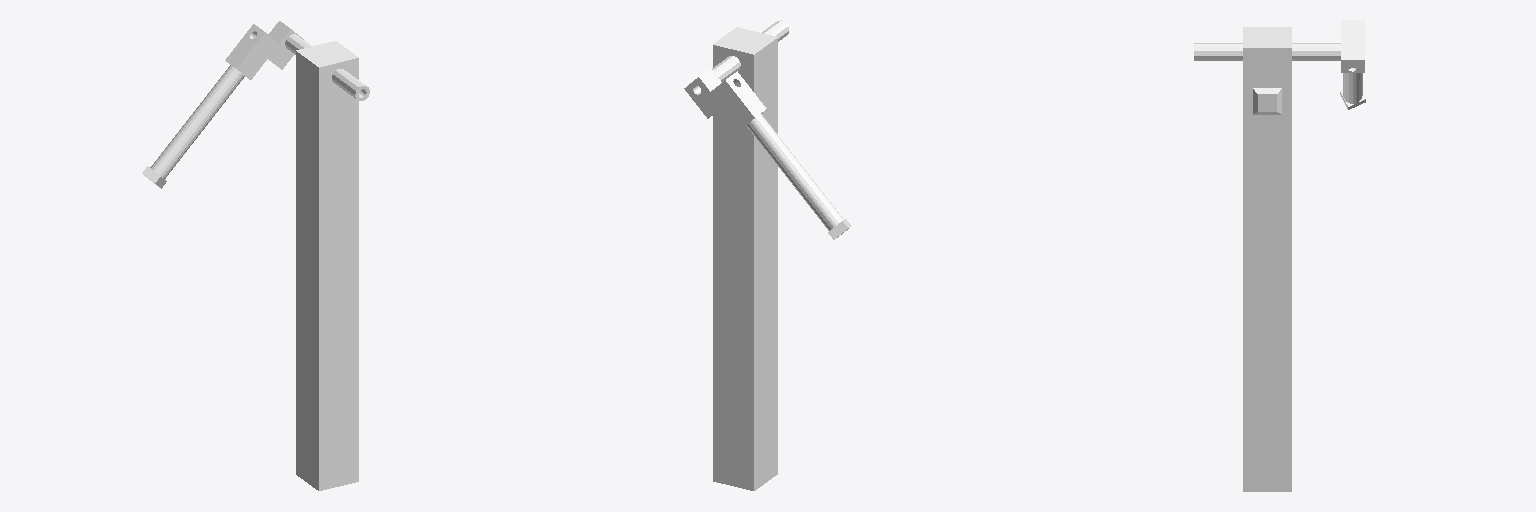
robot.urdf — solidsinglearm:
<robot
  name="solidsinglearm">
  <link name="world"/>
  <joint name="fixed" type="fixed">
    <parent link="world"/>
    <child link="base_link"/> 
  </joint>
  <link
    name="base_link">
    <inertial>
      <origin
        xyz="0 0 0.5"
        rpy="0 0 0" />
      <mass
        value="10.149" />
      <inertia
        ixx="0.87353"
        ixy="2.2172E-18"
        ixz="-0.0005131"
        iyy="0.87197"
        iyz="4.9676E-17"
        izz="0.018415" />
    </inertial>
    <visual>
      <origin
        xyz="0 0 0"
        rpy="0 0 0" />
      <geometry>
        <mesh
          filename="package://solidsinglearm/meshes/base_link.STL" />
      </geometry>
      <material
        name="">
        <color
          rgba="1 1 1 1" />
      </material>
    </visual>
    <collision>
      <origin
        xyz="0 0 0"
        rpy="0 0 0" />
      <geometry>
        <mesh
          filename="package://solidsinglearm/meshes/base_link.STL" />
      </geometry>
    </collision>
  </link>
  <link
    name="l_link1">
    <inertial>
      <origin
        xyz="0.02 0 0.025"
        rpy="0 0 0" />
      <mass
        value="0.16858" />
      <inertia
        ixx="0"
        ixy="0"
        ixz="0"
        iyy="0.00013132"
        iyz="0"
        izz="0.00013132" />
    </inertial>
    <visual>
      <origin
        xyz="0 0 0"
        rpy="0 0 0" />
      <geometry>
        <mesh
          filename="package://solidsinglearm/meshes/l_link1.STL" />
      </geometry>
      <material
        name="">
        <color
          rgba="1 1 1 1" />
      </material>
    </visual>
    <collision>
      <origin
        xyz="0 0 0"
        rpy="0 0 0" />
      <geometry>
        <mesh
          filename="package://solidsinglearm/meshes/l_link1.STL" />
      </geometry>
    </collision>
  </link>
  <joint
    name="l_joint1"
    type="continuous">
    <origin
      xyz="0 0.15 0.96758"
      rpy="1.5708 0.78014 3.1416" />
    <parent
      link="base_link" />
    <child
      link="l_link1" />
    <axis
      xyz="0 0 1" />
  </joint>
  <link
    name="l_link2">
    <inertial>
      <origin
        xyz="0 -0. 0.025"
        rpy="0 0 0" />
      <mass
        value="0.21858" />
      <inertia
        ixx="0.0002291"
        ixy="0"
        ixz="0"
        iyy="0"
        iyz="0"
        izz="0.00023198" />
    </inertial>
    <visual>
      <origin
        xyz="0 0 0"
        rpy="0 0 0" />
      <geometry>
        <mesh
          filename="package://solidsinglearm/meshes/l_link2.STL" />
      </geometry>
      <material
        name="">
        <color
          rgba="1 1 1 1" />
      </material>
    </visual>
    <collision>
      <origin
        xyz="0 0 0"
        rpy="0 0 0" />
      <geometry>
        <mesh
          filename="package://solidsinglearm/meshes/l_link2.STL" />
      </geometry>
    </collision>
  </link>
  <joint
    name="l_joint2"
    type="continuous">
    <origin
      xyz="0.04 0.025 0.025"
      rpy="1.5708 1.5689 -3.1416" />
    <parent
      link="l_link1" />
    <child
      link="l_link2" />
    <axis
      xyz="0 0 1" />
  </joint>
  <link
    name="l_link3">
    <inertial>
      <origin
        xyz="0 0 0.15622"
        rpy="0 0 0" />
      <mass
        value="0.29589" />
      <inertia
        ixx="0.0024046"
        ixy="0"
        ixz="0"
        iyy="0.0024046"
        iyz="0"
        izz="0" />
    </inertial>
    <visual>
      <origin
        xyz="0 0 0"
        rpy="0 0 0" />
      <geometry>
        <mesh
          filename="package://solidsinglearm/meshes/l_link3.STL" />
      </geometry>
      <material
        name="">
        <color
          rgba="1 1 1 1" />
      </material>
    </visual>
    <collision>
      <origin
        xyz="0 0 0"
        rpy="0 0 0" />
      <geometry>
        <mesh
          filename="package://solidsinglearm/meshes/l_link3.STL" />
      </geometry>
    </collision>
  </link>
  <joint
    name="l_joint3"
    type="continuous">
    <origin
      xyz="0 -0.08 0.025"
      rpy="-1.5708 0 -3.1416" />
    <parent
      link="l_link2" />
    <child
      link="l_link3" />
    <axis
      xyz="0 0 -1" />
  </joint>
    <gazebo>
    <plugin filename="libgazebo_ros_control.so" name="gazebo_ros_control">
      <robotNamespace>/solidsinglearm</robotNamespace>
      <robotSimType>gazebo_ros_control/DefaultRobotHWSim</robotSimType>
    </plugin>
  </gazebo>
   <transmission name="right_tran1">
    <type>transmission_interface/SimpleTransmission</type>
    <joint name="l_joint1">
      <hardwareInterface>hardware_interface/EffortJointInterface</hardwareInterface>
    </joint>
    <actuator name="right_motor1">
      <hardwareInterface>hardware_interface/EffortJointInterface</hardwareInterface>
      <mechanicalReduction>1</mechanicalReduction>
    </actuator>
  </transmission>
  <transmission name="right_tran2">
    <type>transmission_interface/SimpleTransmission</type>
    <joint name="l_joint2">
      <hardwareInterface>hardware_interface/EffortJointInterface</hardwareInterface>
    </joint>
    <actuator name="right_motor2">
      <hardwareInterface>hardware_interface/EffortJointInterface</hardwareInterface>
      <mechanicalReduction>1</mechanicalReduction>
    </actuator>
  </transmission>
  <transmission name="right_tran3">
    <type>transmission_interface/SimpleTransmission</type>
    <joint name="l_joint3">
      <hardwareInterface>hardware_interface/EffortJointInterface</hardwareInterface>
    </joint>
    <actuator name="right_motor3">
      <hardwareInterface>hardware_interface/EffortJointInterface</hardwareInterface>
      <mechanicalReduction>1</mechanicalReduction>
    </actuator>
  </transmission>
</robot>

--- Facts derived from the render (not from the file) ---
The picture shows the robot from 3 angles, left to right: view 1: azimuth 30°, elevation 25°; view 2: azimuth 150°, elevation 25°; view 3: azimuth 270°, elevation 25°; orthographic projection.
Robot: solidsinglearm — 5 links, 4 joints (3 continuous, 1 fixed); root link world; default pose: all joints at 0.
Visible links, largest first — view 1: base_link, l_link3, l_link2, l_link1; view 2: base_link, l_link3, l_link2, l_link1; view 3: base_link, l_link1, l_link3.
Boxes of the visible links, <box> form: base_link: <box>285,34,369,490</box>; l_link3: <box>142,65,244,188</box>; l_link2: <box>225,24,278,79</box>; l_link1: <box>268,21,303,69</box>; base_link: <box>712,20,788,490</box>; l_link3: <box>746,114,851,239</box>; l_link2: <box>711,71,766,129</box>; l_link1: <box>684,68,722,118</box>; base_link: <box>1194,27,1340,491</box>; l_link1: <box>1341,37,1364,72</box>; l_link3: <box>1340,73,1365,109</box>.
Size in the robot's own frame: 0.4125 by 0.351 by 1.01 metres.
4 mesh visuals loaded from 4 distinct referenced files (4 binary STL).